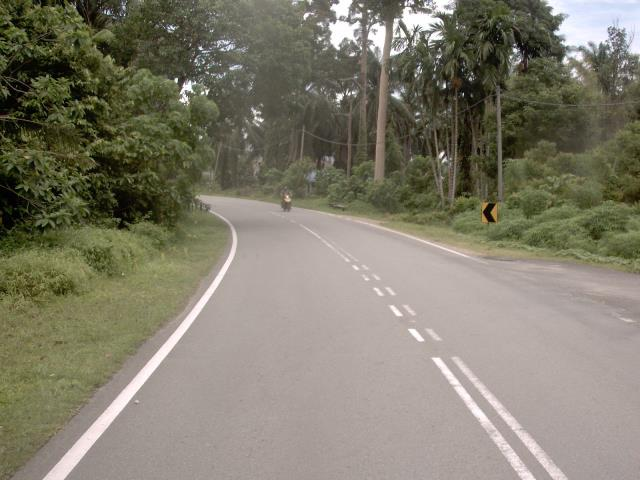traffic_sign: (475, 195, 503, 231)
